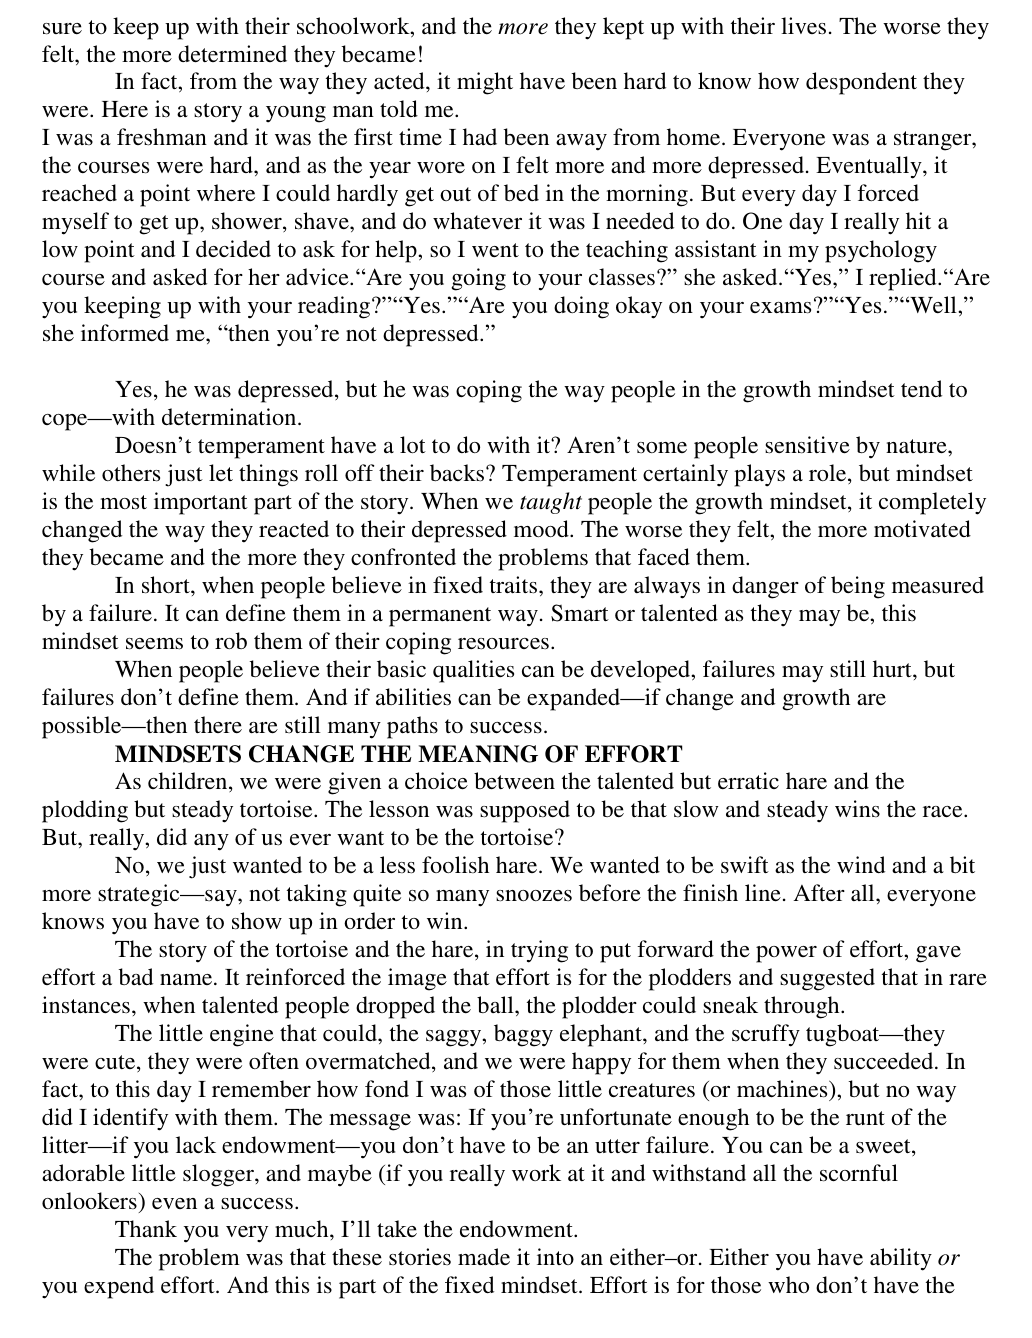latin: (35, 68, 995, 353), (27, 939, 986, 1212), (33, 374, 988, 571), (37, 571, 993, 743), (34, 849, 986, 937), (38, 1217, 963, 1302), (37, 766, 977, 849), (38, 14, 988, 67), (114, 746, 683, 764)
